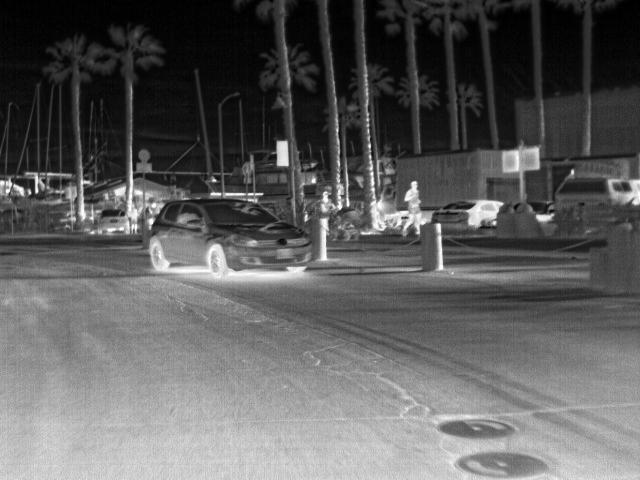car: (150, 198, 314, 274), (548, 174, 640, 208), (443, 198, 499, 228), (97, 207, 127, 235), (535, 203, 554, 222)
person: (402, 180, 424, 239), (317, 190, 335, 218), (130, 206, 142, 234)
